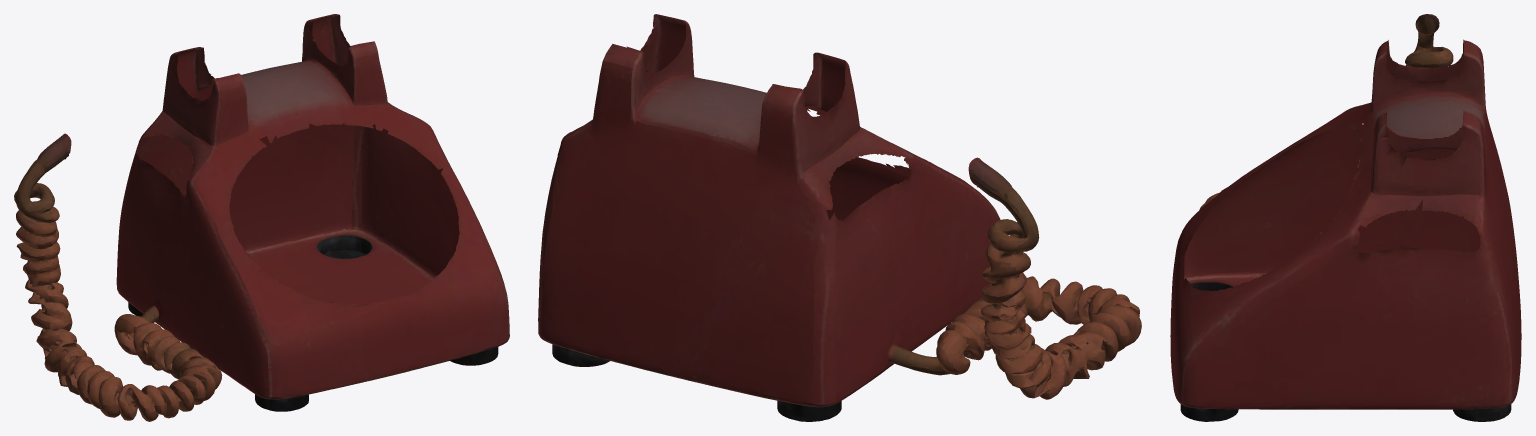
3 renders of one model, left to right at view 1: azimuth 30°, elevation 25°; view 2: azimuth 150°, elevation 25°; view 3: azimuth 270°, elevation 25°, orthographic. The views are drawn at different scales.
Parts seen in each view (by area): view 1: world; view 2: world; view 3: world.
Part boxes in pixels (bbox=[...]): world: bbox=[14, 14, 509, 421]; world: bbox=[538, 14, 1141, 421]; world: bbox=[1170, 14, 1521, 421].
Bounding box in the file's own units: 0.1931 × 0.122 × 0.1387.
1 material, 1 textured.
